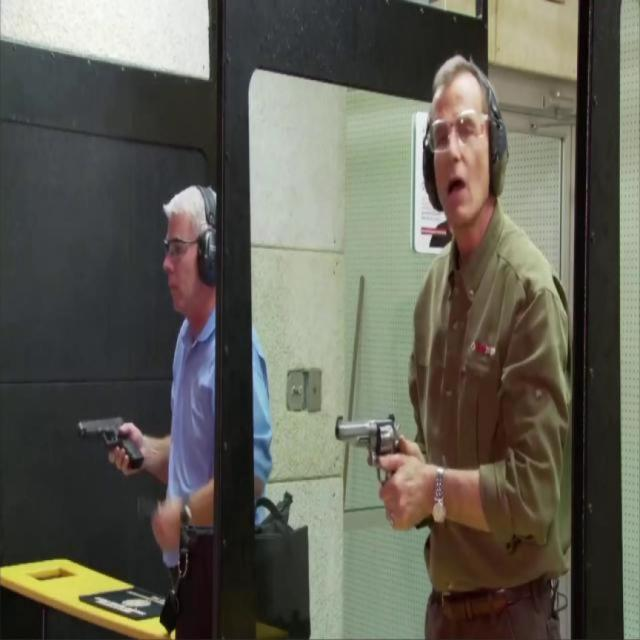pistol: (335, 410, 403, 490), (77, 416, 145, 470)
